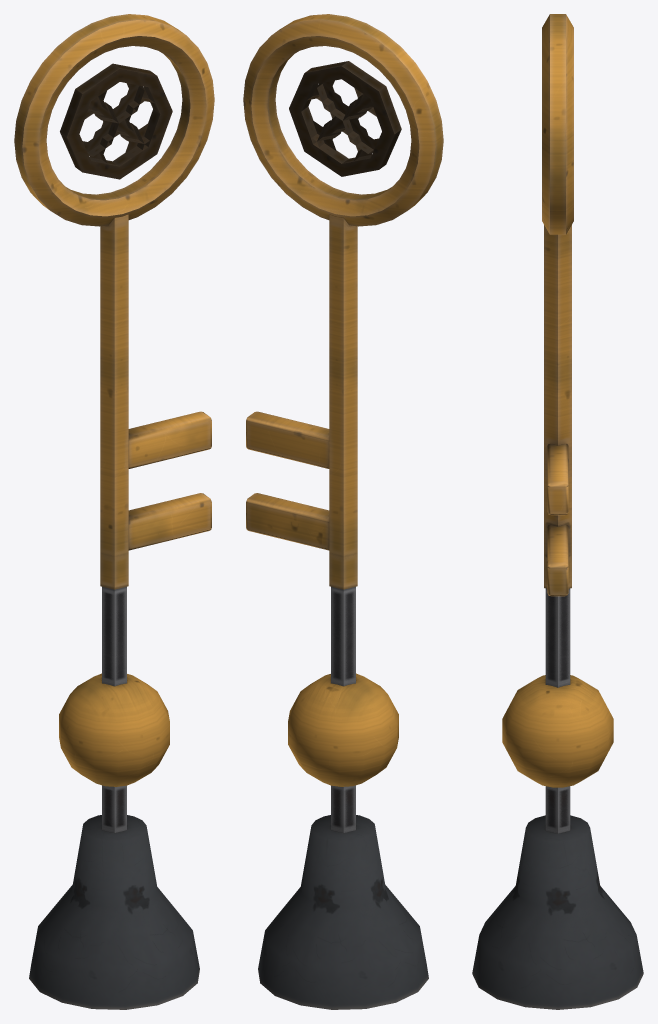
The model's file is KeyFinial.fbx.
The picture shows the model from 3 angles, left to right: view 1: azimuth 30°, elevation 25°; view 2: azimuth 150°, elevation 25°; view 3: azimuth 270°, elevation 25°; orthographic projection.
Parts seen in each view (by area): view 1: KeyFinial; view 2: KeyFinial; view 3: KeyFinial.
Part boxes in pixels (bbox=[...]): KeyFinial: bbox=[14, 14, 214, 1009]; KeyFinial: bbox=[243, 14, 443, 1009]; KeyFinial: bbox=[472, 14, 643, 1009].
Size of the model in its own units: 92.69 by 439 by 72.
